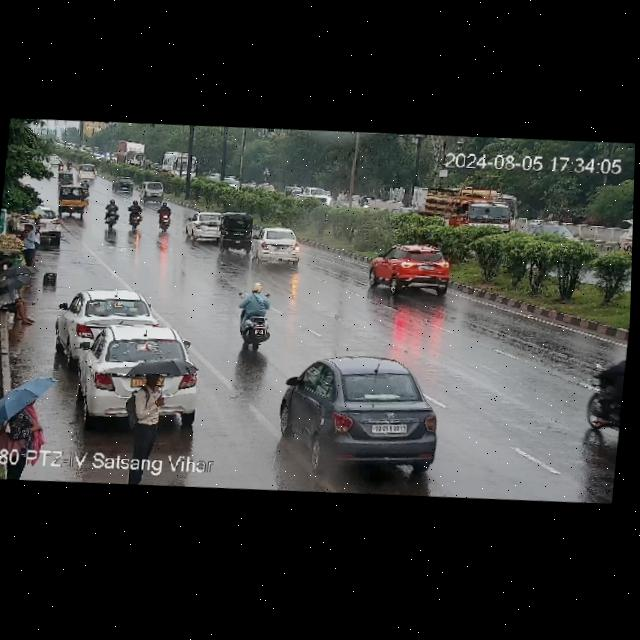bus: (162, 150, 196, 178)
car: (281, 352, 454, 477), (60, 319, 206, 422), (57, 286, 158, 353), (367, 241, 464, 296), (185, 210, 245, 247), (254, 226, 308, 266), (216, 210, 257, 253), (56, 185, 93, 215), (40, 205, 62, 243), (138, 181, 169, 200), (111, 175, 135, 194), (77, 163, 96, 181), (58, 168, 75, 187)
motorcycle: (582, 353, 626, 446), (236, 281, 276, 353), (154, 203, 178, 232), (125, 199, 147, 227), (100, 200, 122, 228), (81, 179, 91, 195)
person: (126, 367, 172, 449), (0, 283, 38, 324), (20, 223, 41, 265)
truck: (409, 182, 526, 235), (115, 139, 146, 168)
